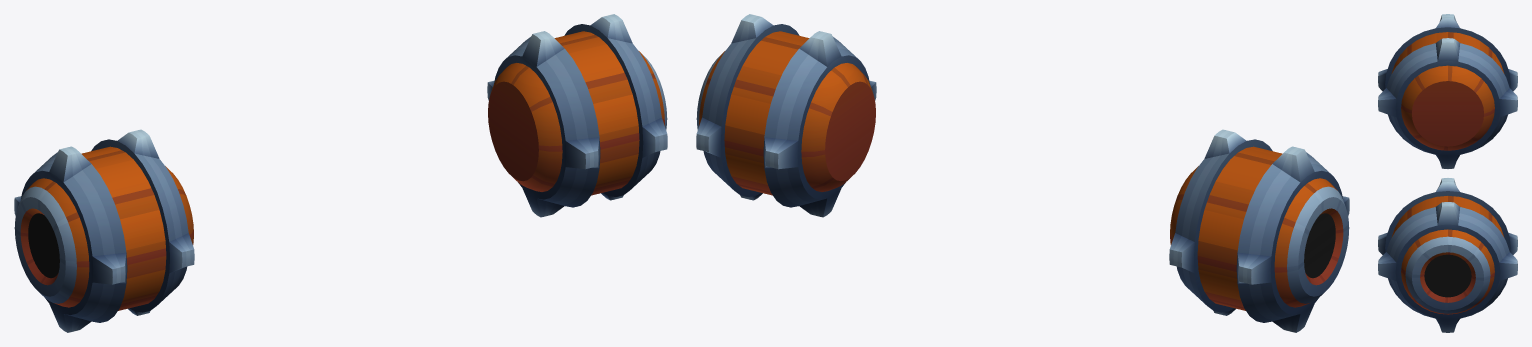
Rendered from TowerWheel.fbx.
3 renders of one model, left to right at view 1: azimuth 30°, elevation 25°; view 2: azimuth 150°, elevation 25°; view 3: azimuth 270°, elevation 25°, orthographic. The views are drawn at different scales.
Parts seen in each view (by area): view 1: TowerWheel; view 2: TowerWheel; view 3: TowerWheel.
Part boxes in pixels (<box>): TowerWheel: <box>14,14,667,332</box>; TowerWheel: <box>696,14,1349,332</box>; TowerWheel: <box>1378,14,1517,332</box>.
Size of the model in its own units: 1175 by 334 by 334.
